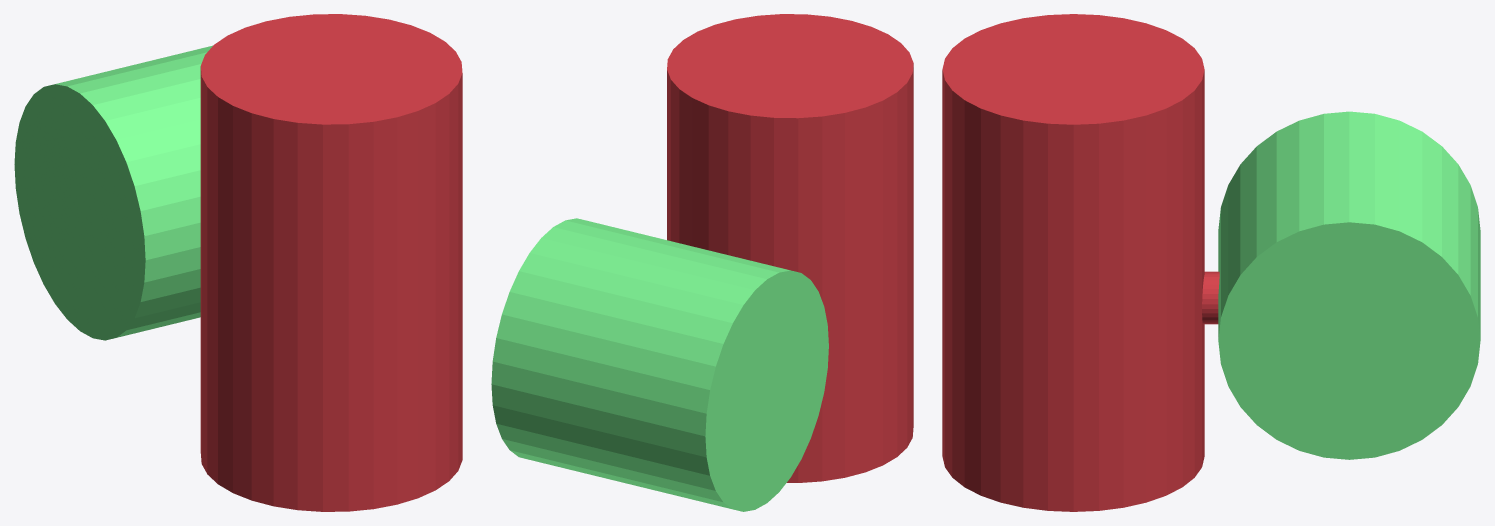
3 views of the same model, side by side, from view 1: azimuth 30°, elevation 25°; view 2: azimuth 150°, elevation 25°; view 3: azimuth 270°, elevation 25° (orthographic). The views are drawn at different scales.
Parts seen in each view (by area): view 1: Cylinder, Cylinder.002; view 2: Cylinder, Cylinder.002; view 3: Cylinder, Cylinder.002, Cylinder.001.
Part boxes in pixels (<box>): Cylinder: <box>200,14,462,511</box>; Cylinder.002: <box>14,45,212,340</box>; Cylinder: <box>667,14,913,482</box>; Cylinder.002: <box>491,218,828,511</box>; Cylinder: <box>942,14,1204,511</box>; Cylinder.002: <box>1218,111,1480,459</box>; Cylinder.001: <box>1202,271,1219,324</box>.
Size of the model in its own units: 200 by 326 by 410.
